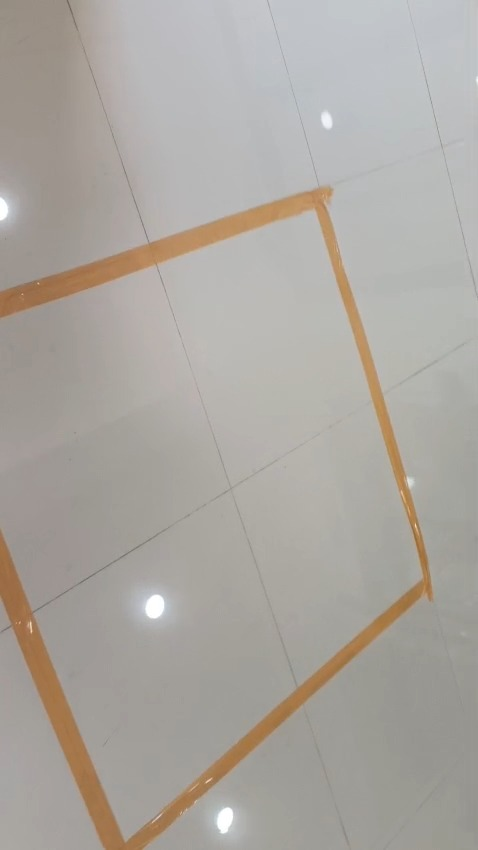floor marking: (2, 187, 432, 849)
